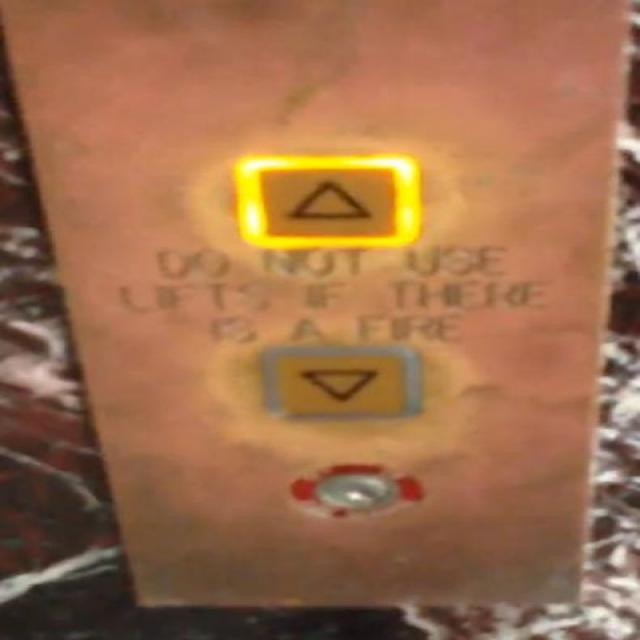down: (250, 341, 422, 424)
keyhole: (286, 456, 422, 523)
up: (230, 151, 427, 250)
